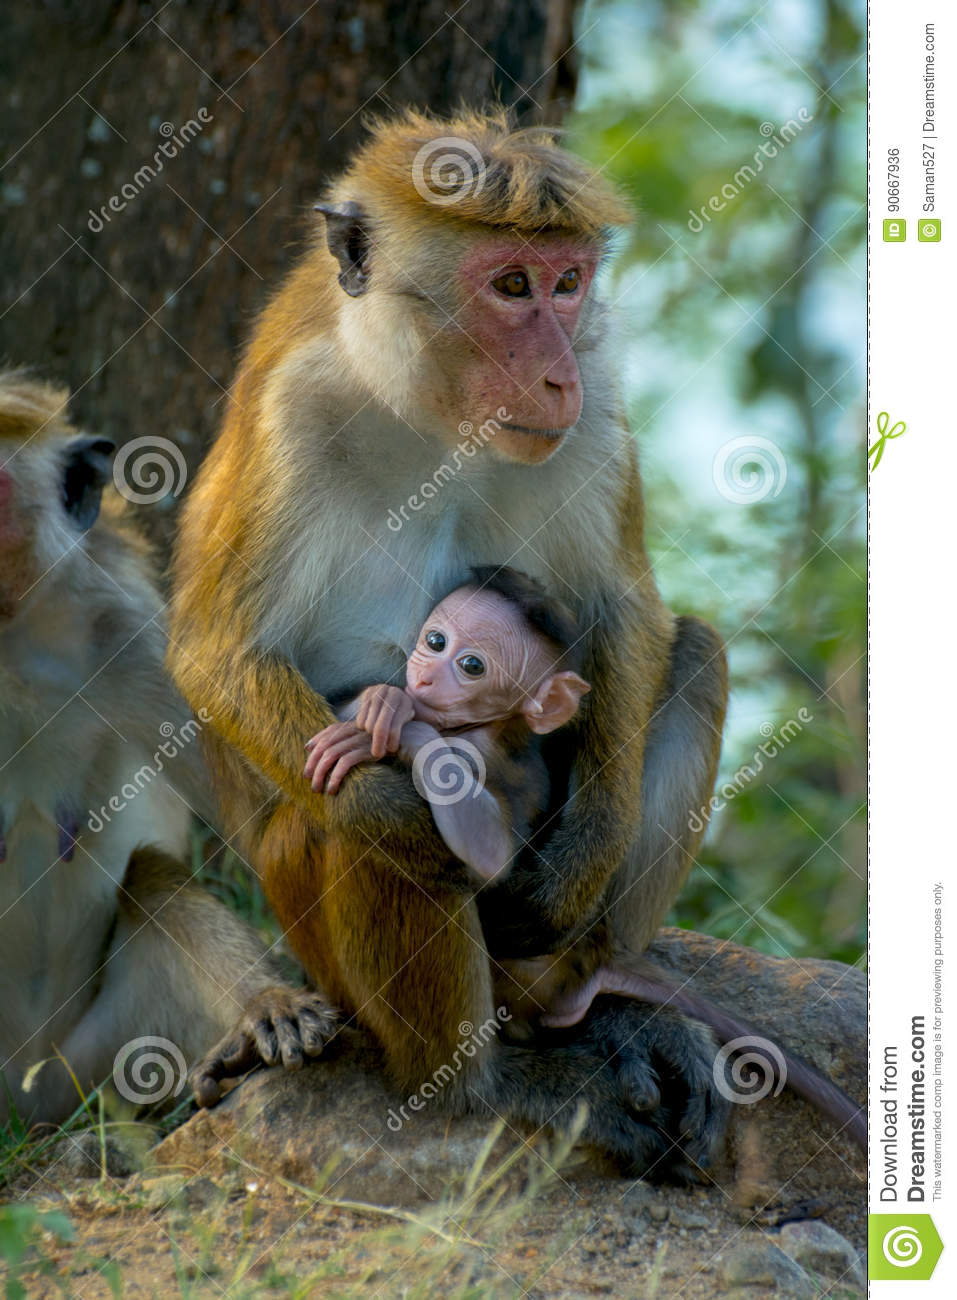Monkey: (254, 48, 660, 570)
